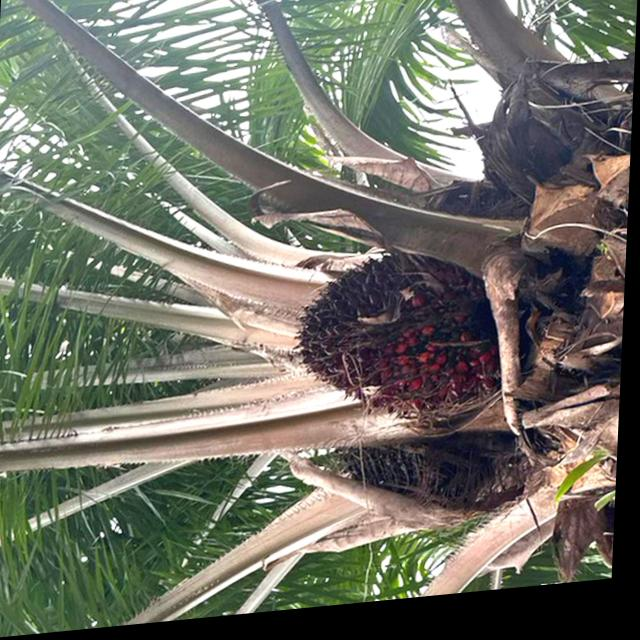ripe: (290, 245, 518, 427)
